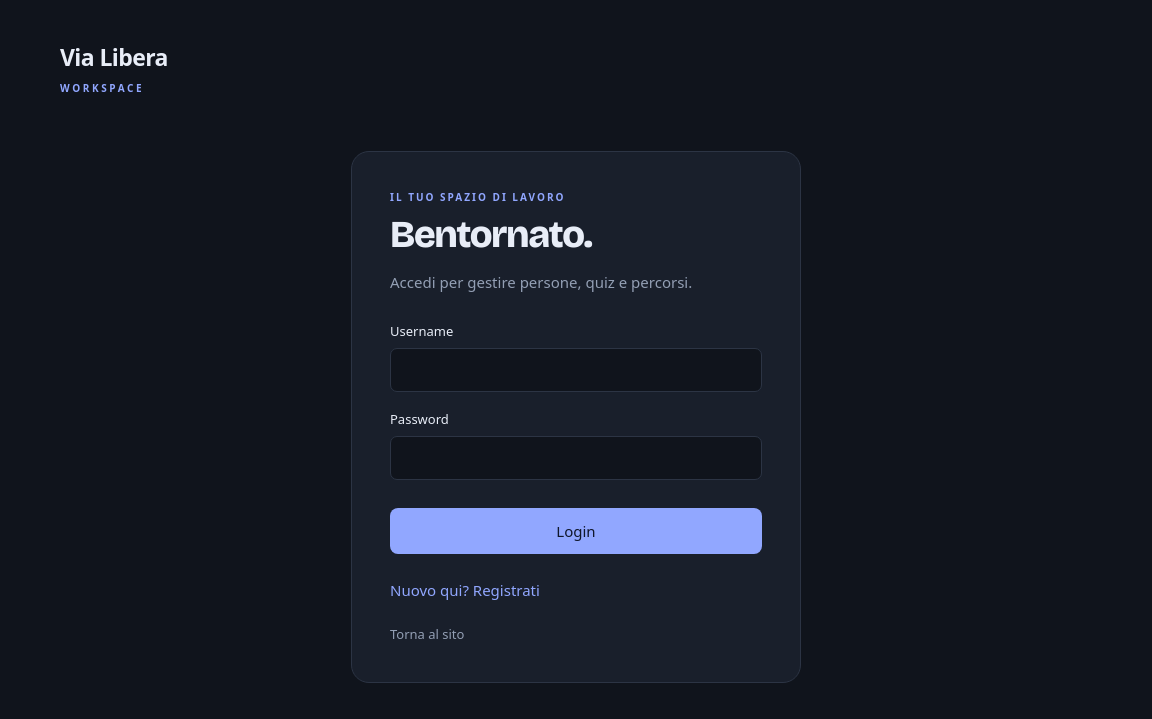
Scenario: React login and backoffice › submits login credentials and loads the authenticated workspace
The width and height of the screenshot is (1152, 719).
Type "admin" into the field labelled "Username" at (576, 370), box [390,348,762,392]
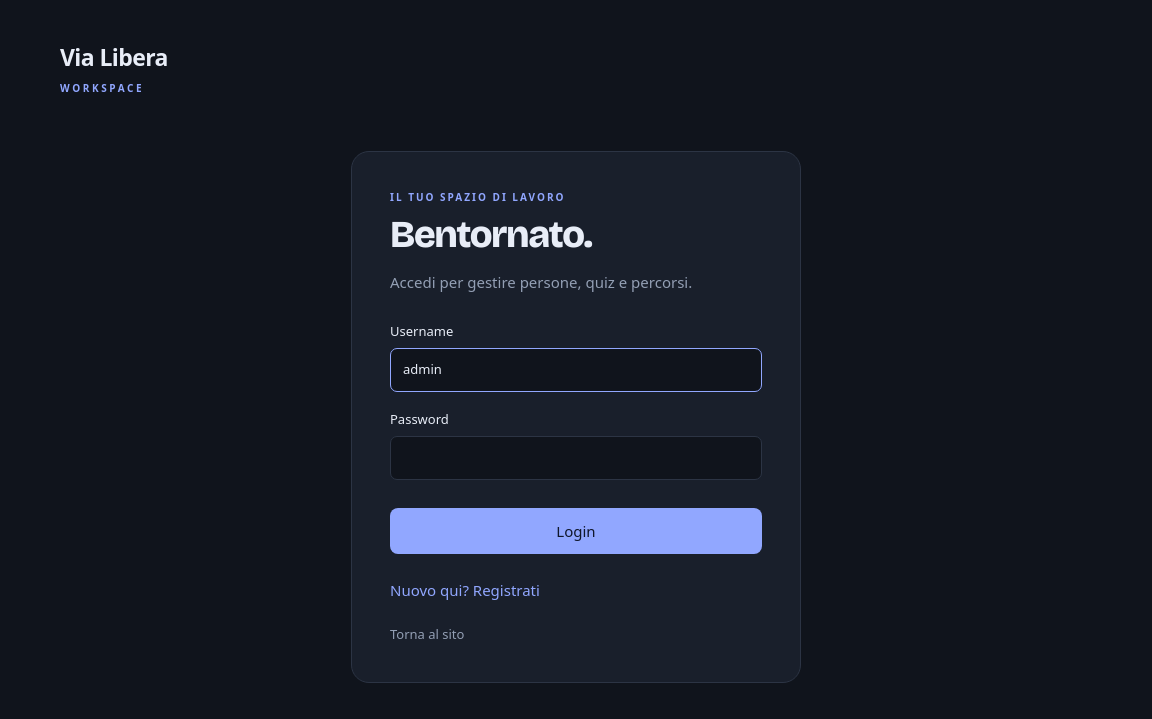
Type "secret" into the password field labelled "Password" at (576, 458), box [390,436,762,480]
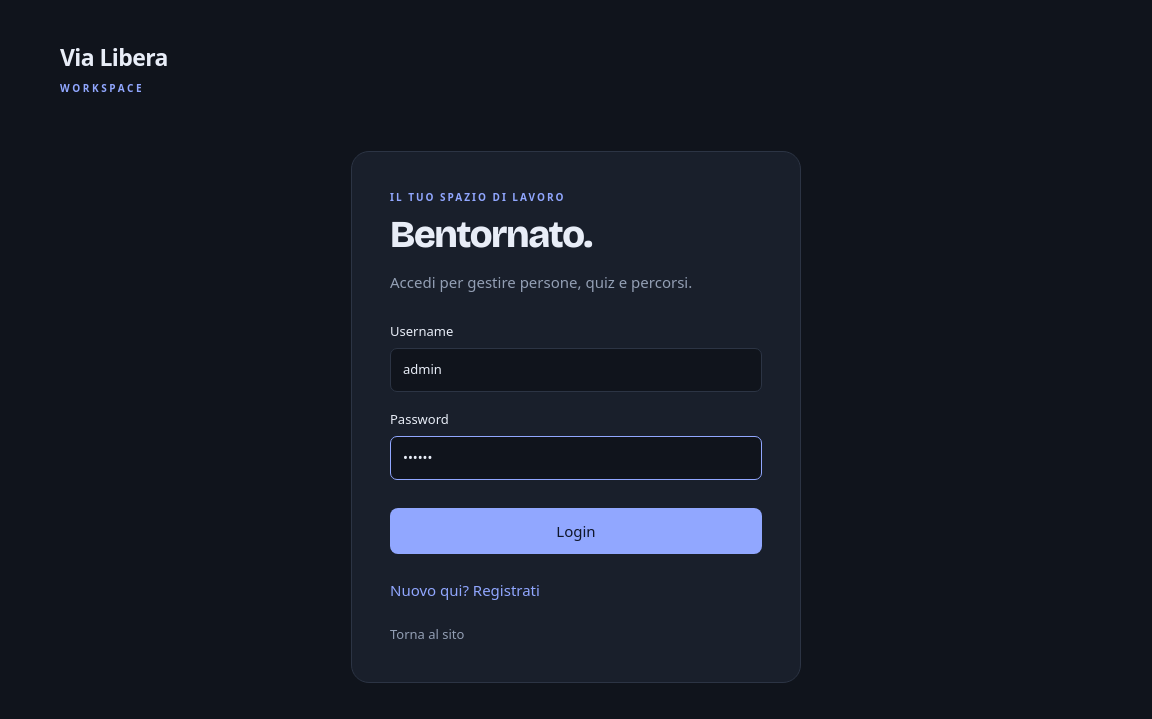
Click the button "Login" at (576, 531), box [390,508,762,554]
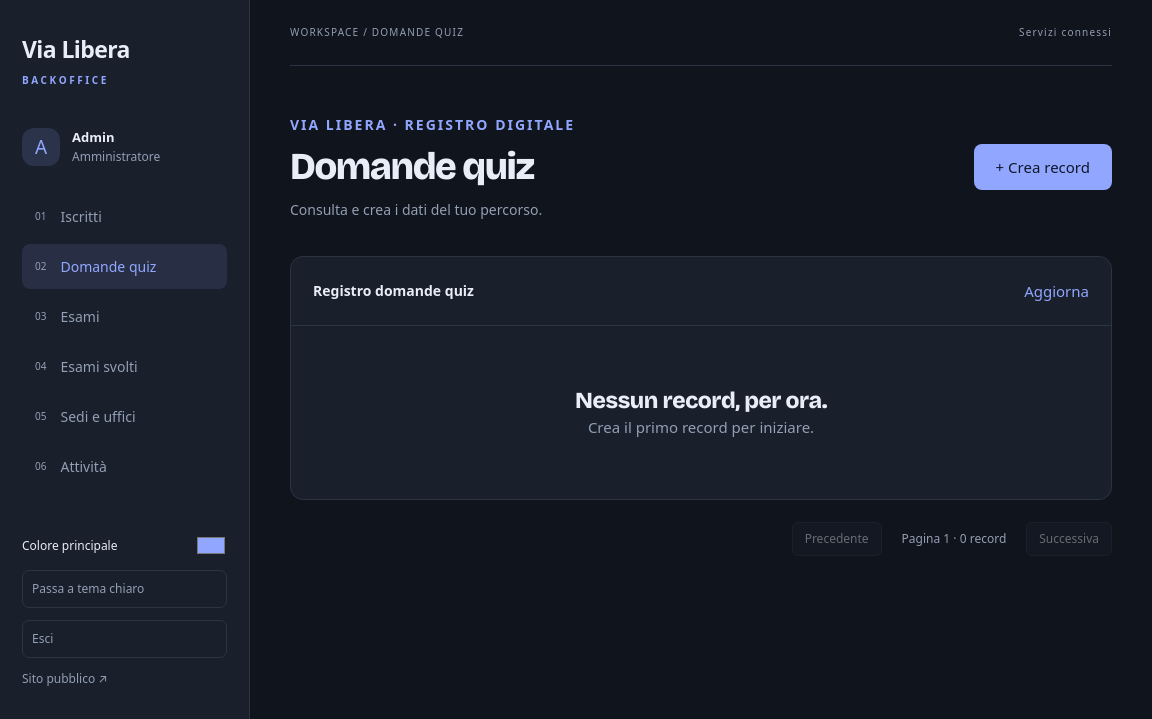
Now the navigation bar named "Backoffice" is shown, box [22,194,227,489]
Now the text "Amministratore" is shown, box [72,147,160,166]
